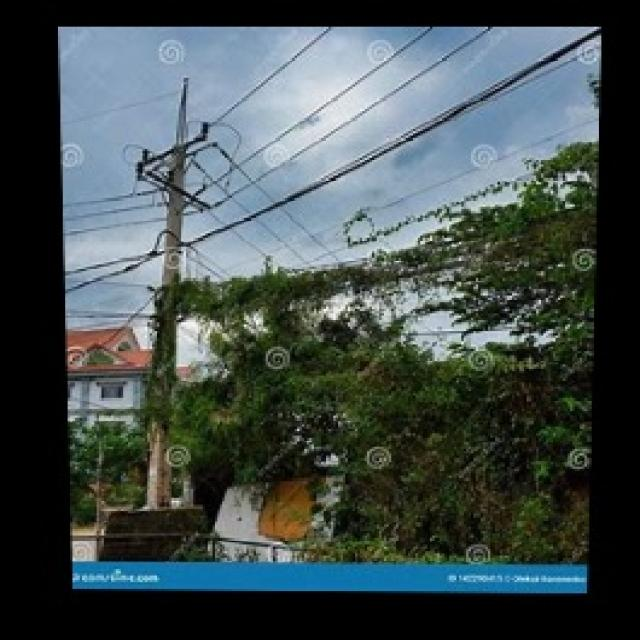critical vegetation: (156, 235, 594, 382)
